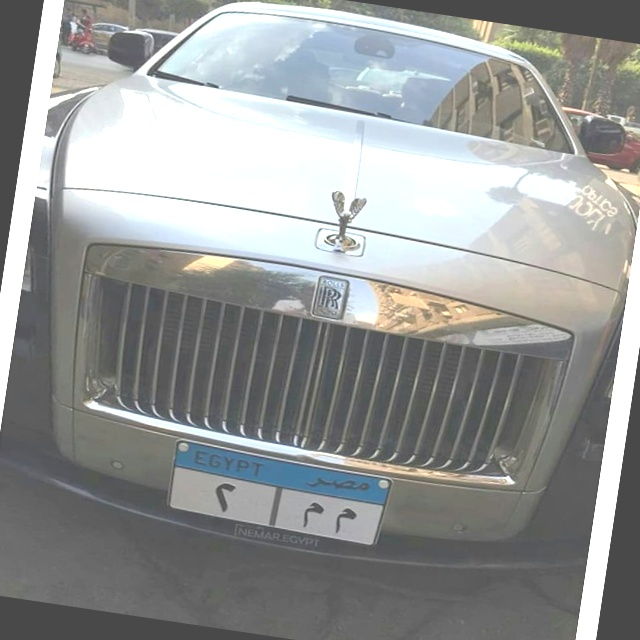License Plate: (156, 432, 400, 555)
